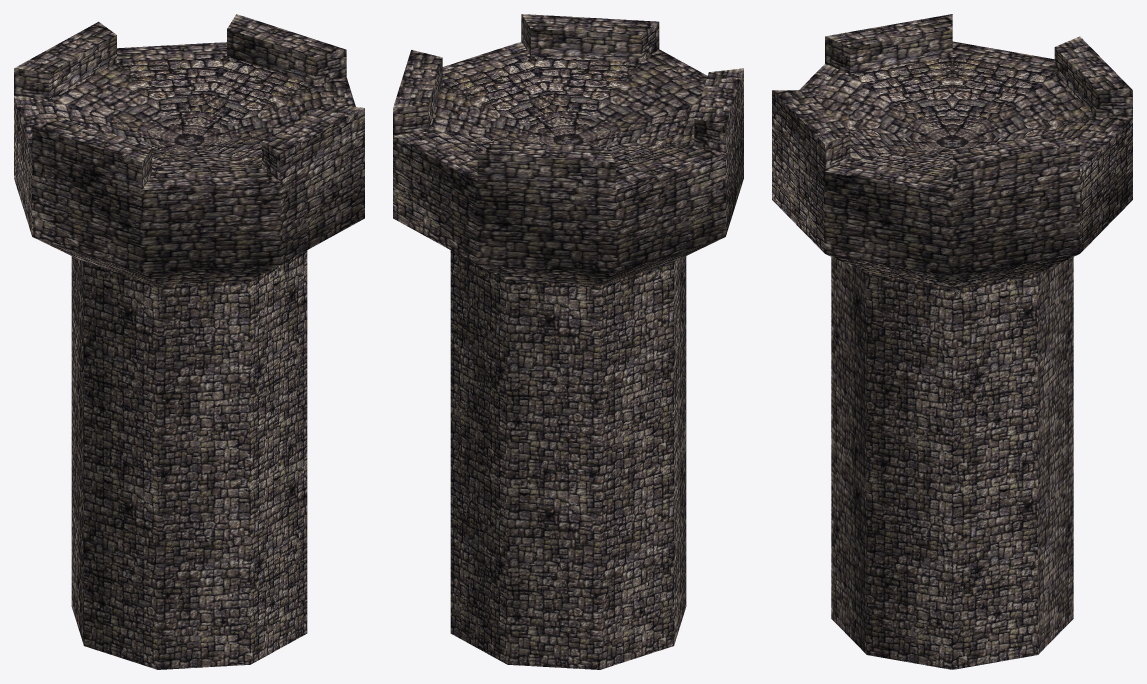
File: pir_m_bld_frt_tower_50.fbx
3 renders of one model, left to right at view 1: azimuth 30°, elevation 25°; view 2: azimuth 150°, elevation 25°; view 3: azimuth 270°, elevation 25°, orthographic.
Visible parts, largest first — view 1: base, parapet; view 2: base, parapet; view 3: base, parapet.
Boxes of the visible parts, <box> form: base: <box>71,250,307,669</box>; parapet: <box>14,14,364,285</box>; base: <box>450,250,686,669</box>; parapet: <box>393,14,743,285</box>; base: <box>831,257,1073,669</box>; parapet: <box>772,14,1132,288</box>.
Size of the model in its own units: 7451 by 12046 by 7452.
1 material, 1 textured.
